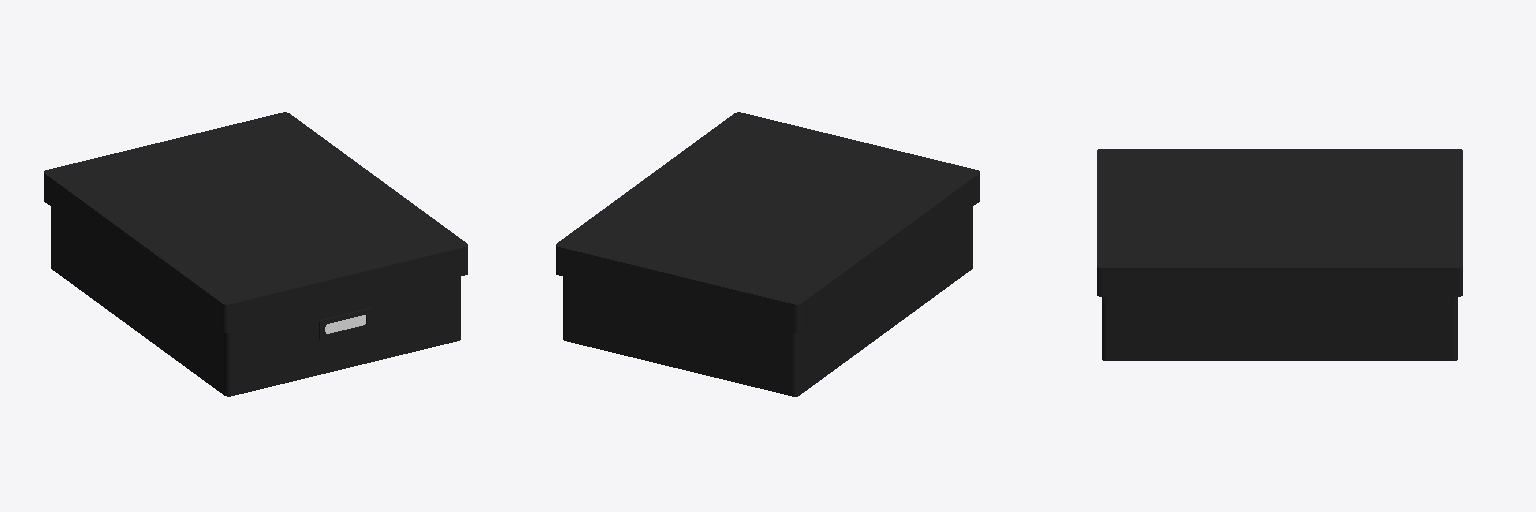
3 views of the same model, side by side, from view 1: azimuth 30°, elevation 25°; view 2: azimuth 150°, elevation 25°; view 3: azimuth 270°, elevation 25° (orthographic).
Visible parts, largest first — view 1: IKE160112; view 2: IKE160112; view 3: IKE160112.
Boxes of the visible parts, box(x1,y1,x2,y2) form: IKE160112: box(44, 112, 467, 396); IKE160112: box(556, 112, 979, 396); IKE160112: box(1097, 149, 1462, 360).
Size of the model in its own units: 1.09 by 0.4045 by 1.41.